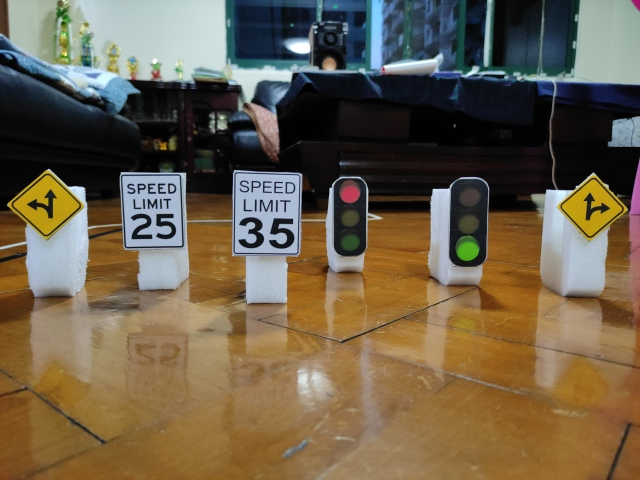Green Traffic Light: (449, 177, 488, 267)
Red Traffic Light: (332, 176, 369, 257)
Speed Limit 25: (119, 172, 186, 248)
Speed Limit 35: (231, 170, 302, 255)
Straight Or Left Sign: (10, 170, 83, 238)
Straight Or Right Sign: (559, 175, 627, 240)
